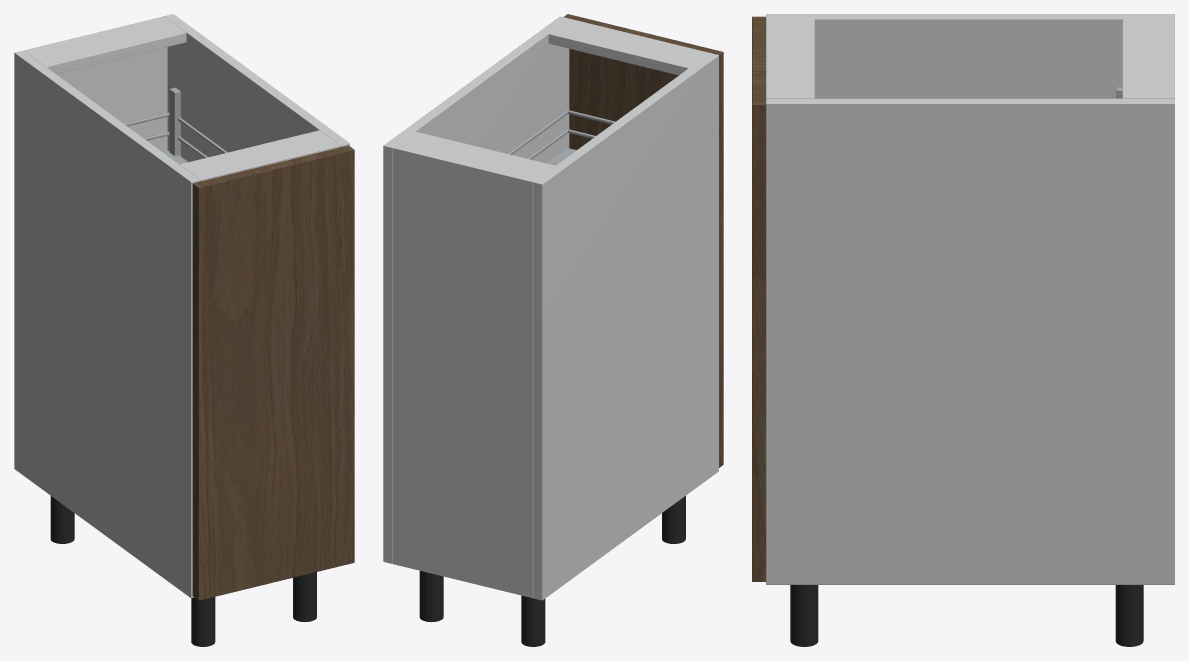
The model's file is oppein-pb-mso-bsr12.glb.
The picture shows the model from 3 angles, left to right: view 1: azimuth 30°, elevation 25°; view 2: azimuth 150°, elevation 25°; view 3: azimuth 270°, elevation 25°; orthographic projection. The views are drawn at different scales.
Visible parts, largest first — view 1: Cabinet side, Door, Cabinet side.001, Cabinet back, Top support rail, Top support rail.001, Adjustable foot.001, Adjustable foot.003, Adjustable foot, Spice pull-out upright.001; view 2: Cabinet side, Cabinet back, Cabinet side.001, Door, Top support rail.001, Top support rail, Adjustable foot, Adjustable foot.002, Adjustable foot.001; view 3: Cabinet side.001, Cabinet side, Door, Top support rail.001, Top support rail, Adjustable foot.002, Adjustable foot.003, Cabinet back.
Boxes of the visible parts, x1,y1,x2,y2 form: Cabinet side: [14, 50, 200, 598]; Door: [192, 145, 354, 600]; Cabinet side.001: [164, 14, 349, 162]; Cabinet back: [24, 16, 167, 151]; Top support rail: [25, 18, 186, 73]; Top support rail.001: [179, 130, 340, 181]; Adjustable foot.001: [191, 597, 215, 646]; Adjustable foot.003: [293, 572, 316, 621]; Adjustable foot: [50, 496, 74, 543]; Spice pull-out upright.001: [169, 87, 180, 156]; Cabinet side: [533, 53, 718, 600]; Cabinet back: [393, 145, 535, 597]; Cabinet side.001: [383, 16, 569, 563]; Door: [564, 14, 723, 467]; Top support rail.001: [548, 18, 709, 75]; Top support rail: [396, 131, 554, 179]; Adjustable foot: [521, 595, 545, 646]; Adjustable foot.002: [419, 571, 443, 622]; Adjustable foot.001: [662, 496, 685, 543]; Cabinet side.001: [766, 98, 1174, 584]; Cabinet side: [766, 14, 1174, 98]; Door: [752, 16, 765, 581]; Top support rail.001: [766, 19, 814, 98]; Top support rail: [1122, 19, 1166, 98]; Adjustable foot.002: [1115, 585, 1143, 646]; Adjustable foot.003: [790, 585, 818, 646]; Cabinet back: [1167, 19, 1174, 98].
Bounding box in the file's own units: 0.3048 × 0.8763 × 0.6064.
4 materials, 1 textured.
